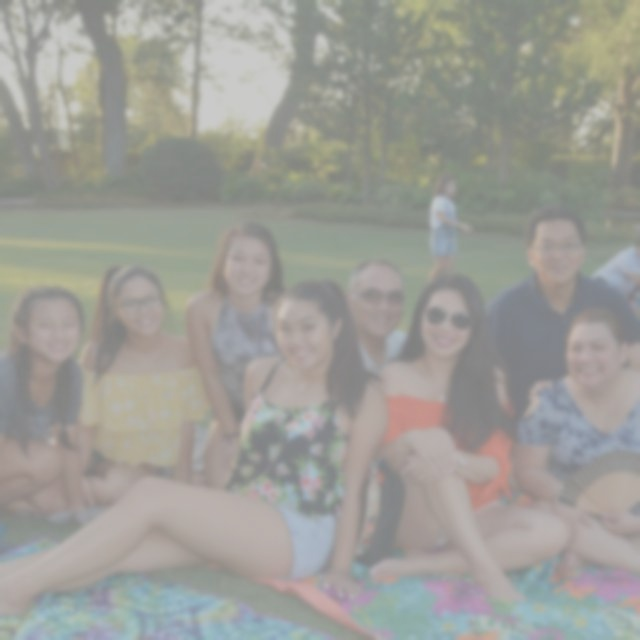pessoa: (0, 275, 395, 624), (370, 266, 572, 604), (65, 258, 216, 521), (510, 303, 640, 588), (484, 202, 639, 436), (183, 219, 287, 494), (0, 283, 91, 518), (343, 256, 416, 381), (428, 172, 474, 282), (590, 242, 640, 302)
